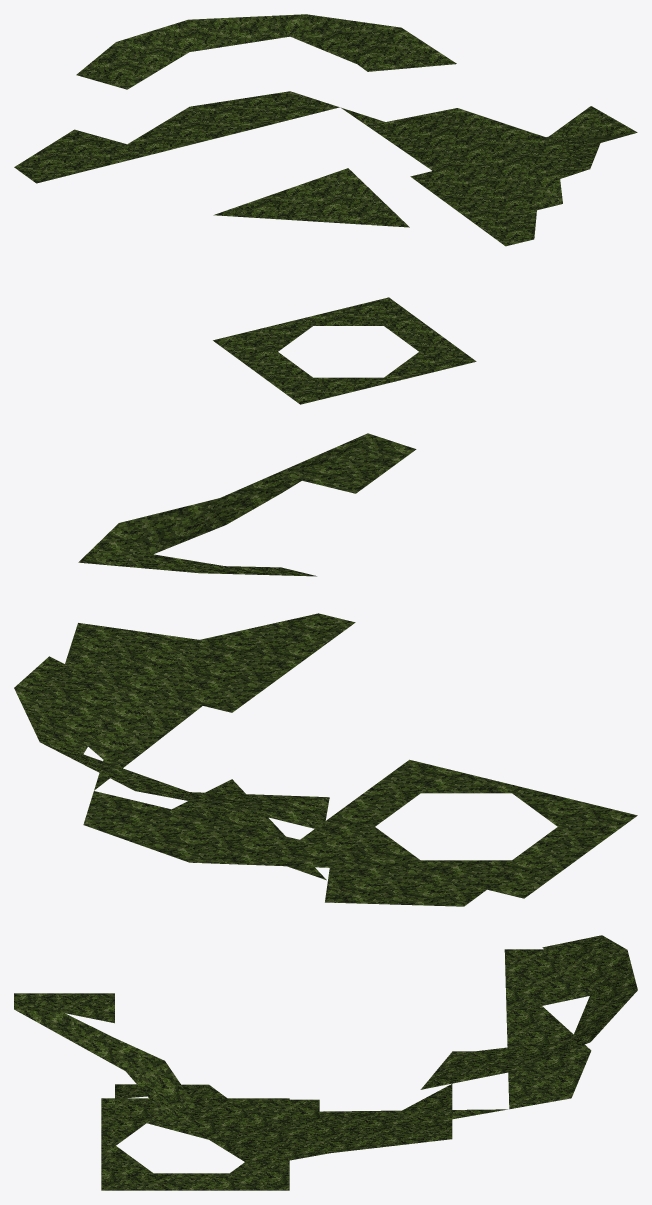
The model's file is temple1grass.obj.
The picture shows the model from 3 angles, top to bottom: view 1: azimuth 30°, elevation 25°; view 2: azimuth 150°, elevation 25°; view 3: azimuth 270°, elevation 25°; orthographic projection. The views are drawn at different scales.
Parts seen in each view (by area): view 1: temple1grass; view 2: temple1grass; view 3: temple1grass.
Boxes of the visible parts, left/top/right/bottom form: temple1grass: left=14, top=14, right=637, bottom=404; temple1grass: left=14, top=433, right=637, bottom=906; temple1grass: left=14, top=935, right=637, bottom=1190.
Bounding box in the file's own units: 5.2 × 2.28 × 5.89.
